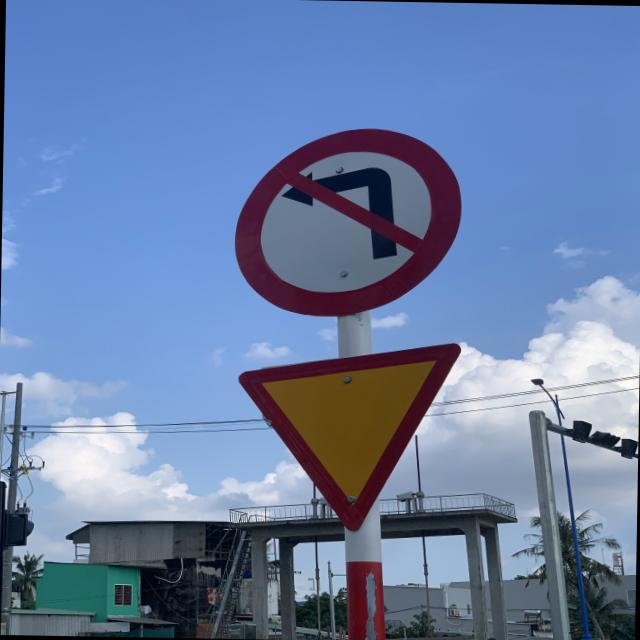Cam_Re_Trai: (233, 120, 468, 309)
Gioi_Han_Toc_Do_25: (230, 338, 472, 532)
